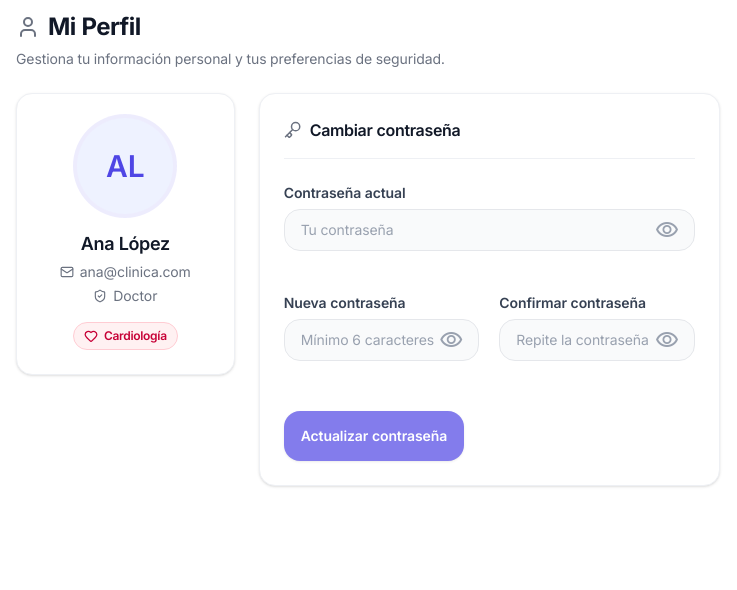
it: ProfilePage › shows a generic error message for unknown failures
In the password field labelled "Contraseña actual": (489,230) [284,209,695,251], type "actual123"
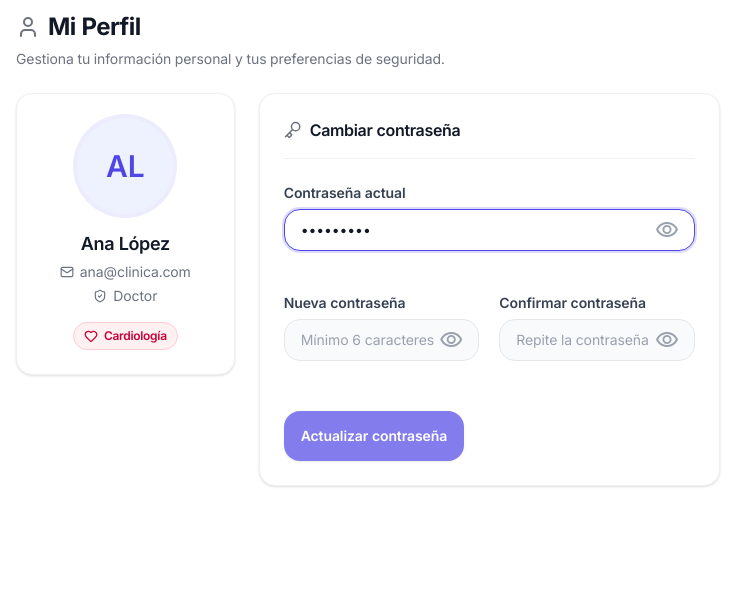
In the password field labelled "Nueva contraseña": (382,340) [284,319,479,361], type "nueva123"
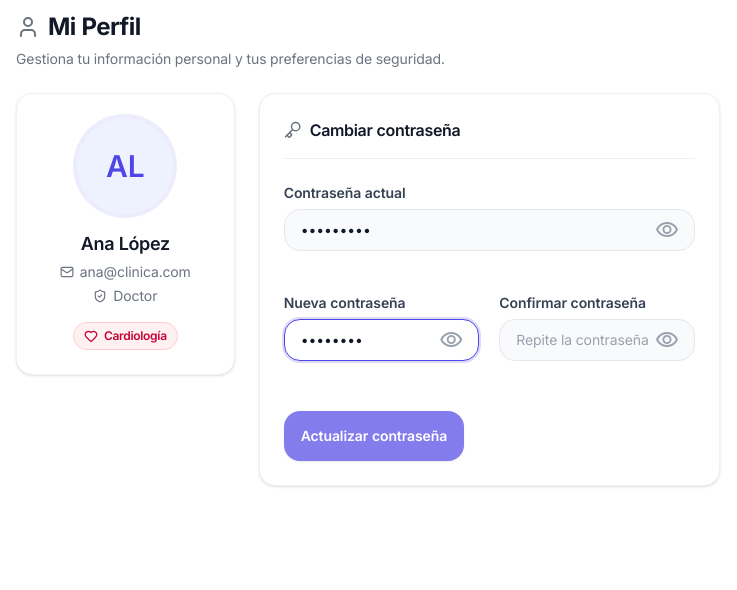
In the password field labelled "Confirmar contraseña": (597,340) [499,319,695,361], type "nueva123"
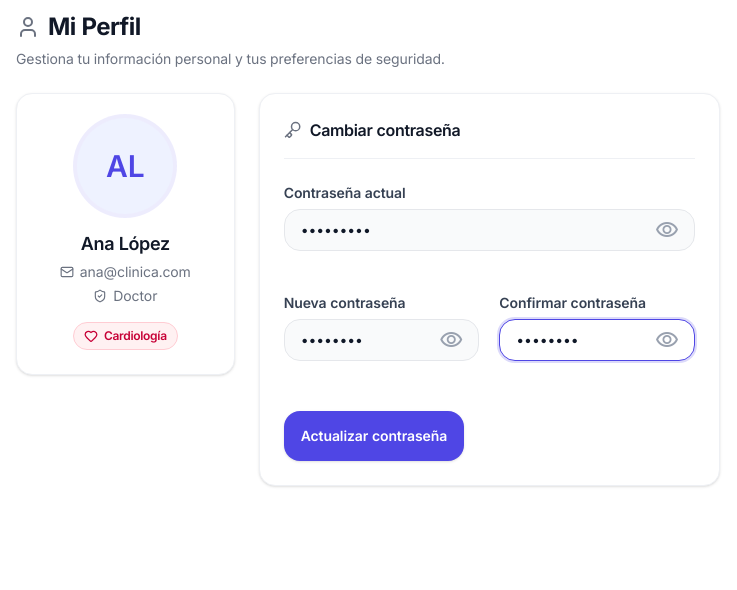
Click the button "Actualizar contraseña": (374,436) [284,411,464,461]
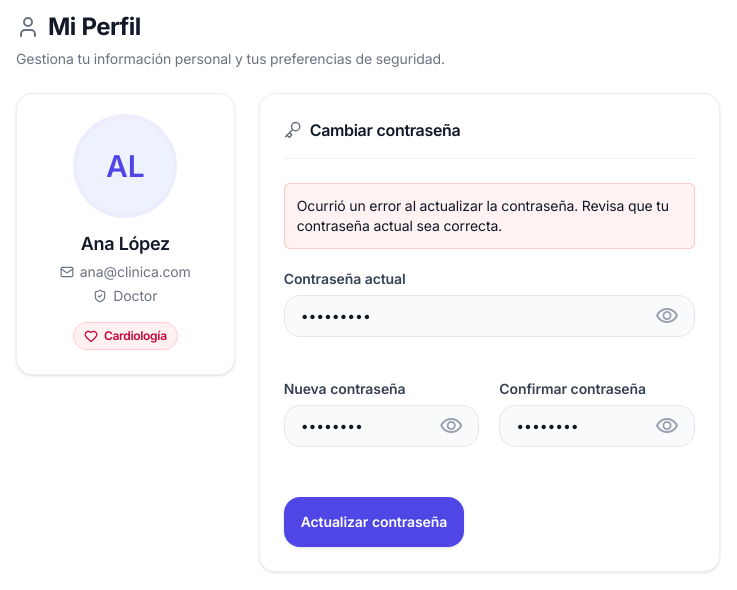
expect the text "Ocurrió un error al actualizar la contraseña. Revisa que tu contraseña actual sea correcta." is shown: met, box [297,197,669,234]
